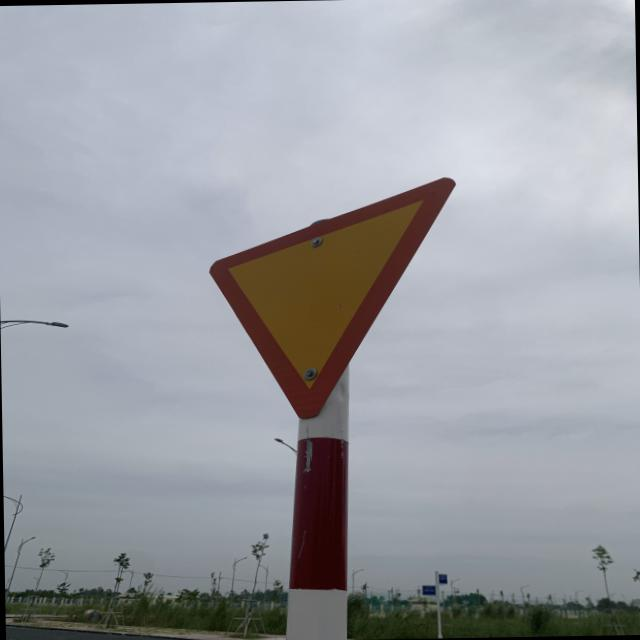Gioi_Han_Toc_Do_25: (207, 176, 460, 422)
